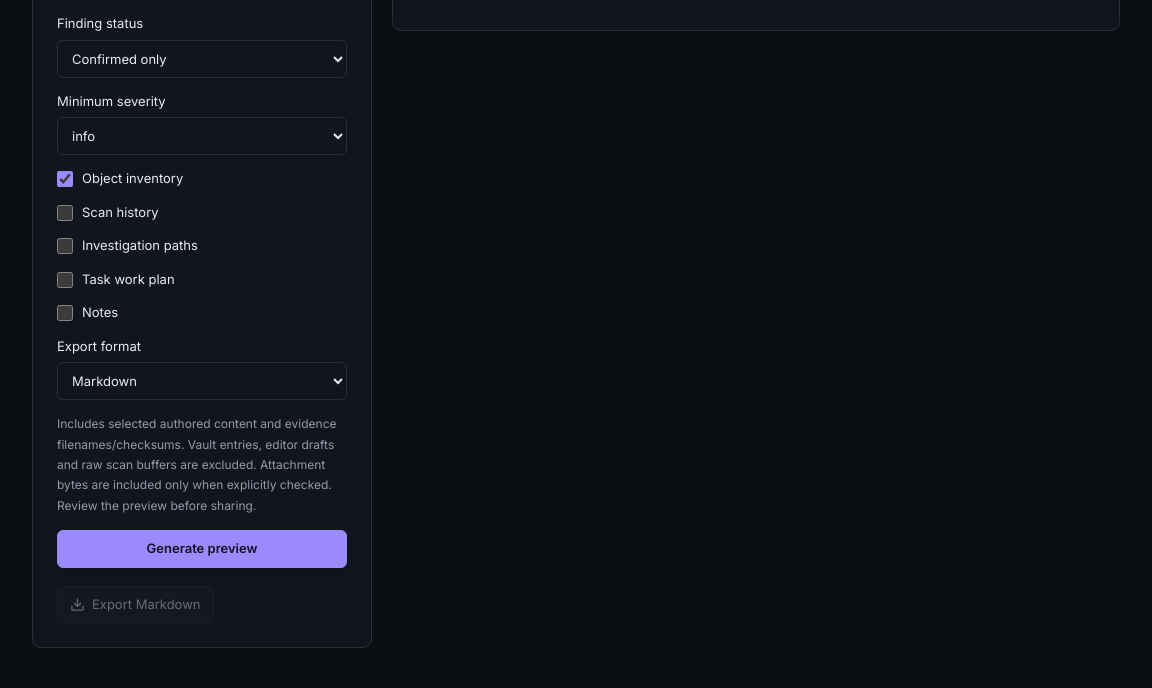
Test: planning workflow › requires a fresh preview when report filters change and exports the selected options
(page scrolled)
Expected: the button "Export Markdown" is disabled, [57,586,214,623]
Click the button "Generate preview": (202, 549) [57,530,347,568]
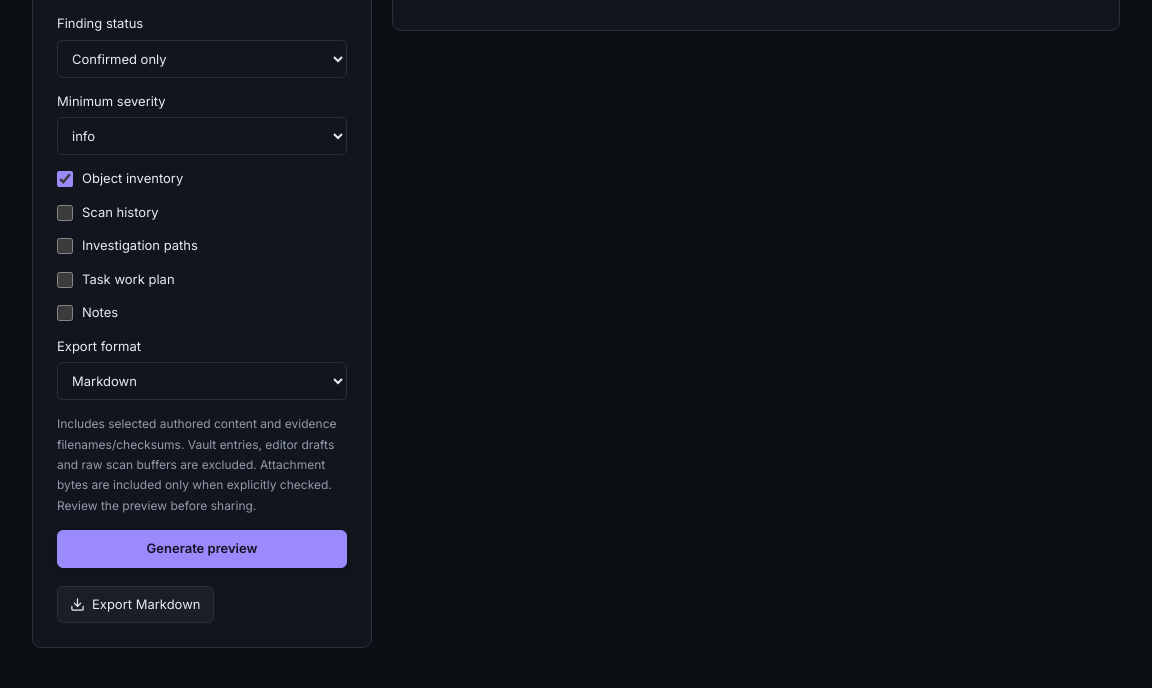
Expected: the button "Export Markdown" is enabled, [57,586,214,623]
Select "high" in the dropdown labelled "Minimum severity": (202, 136) [57,117,347,155]
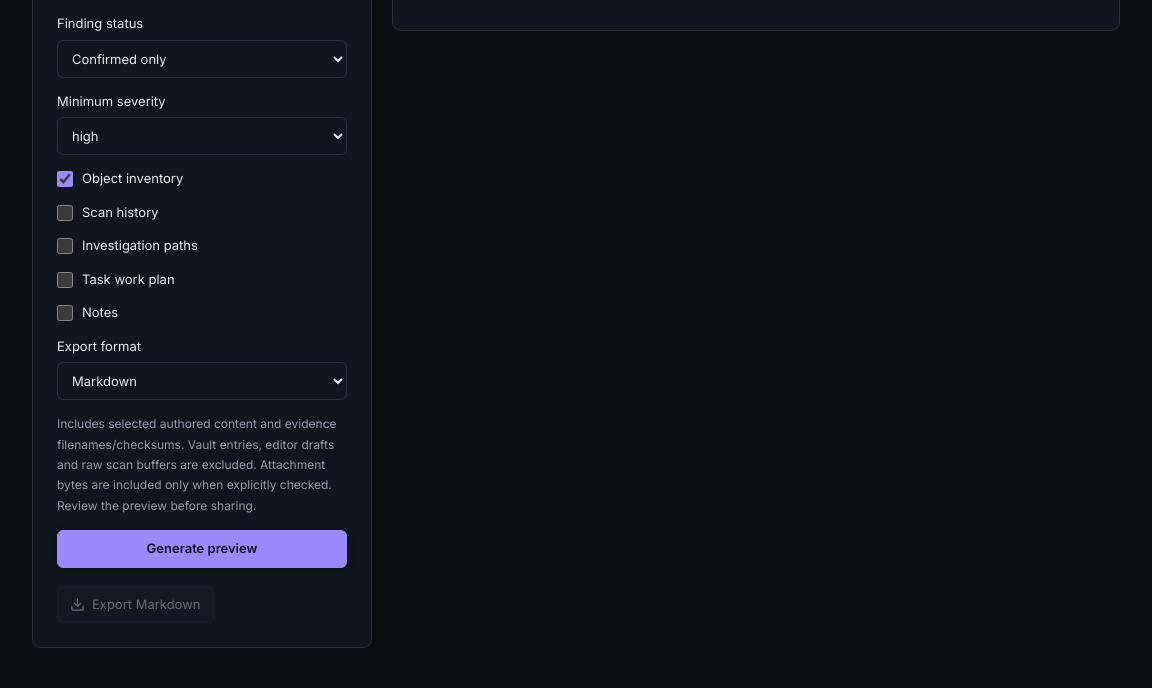
Expected: the button "Export Markdown" is disabled, [57,586,214,623]
Click the button "Generate preview": (202, 549) [57,530,347,568]
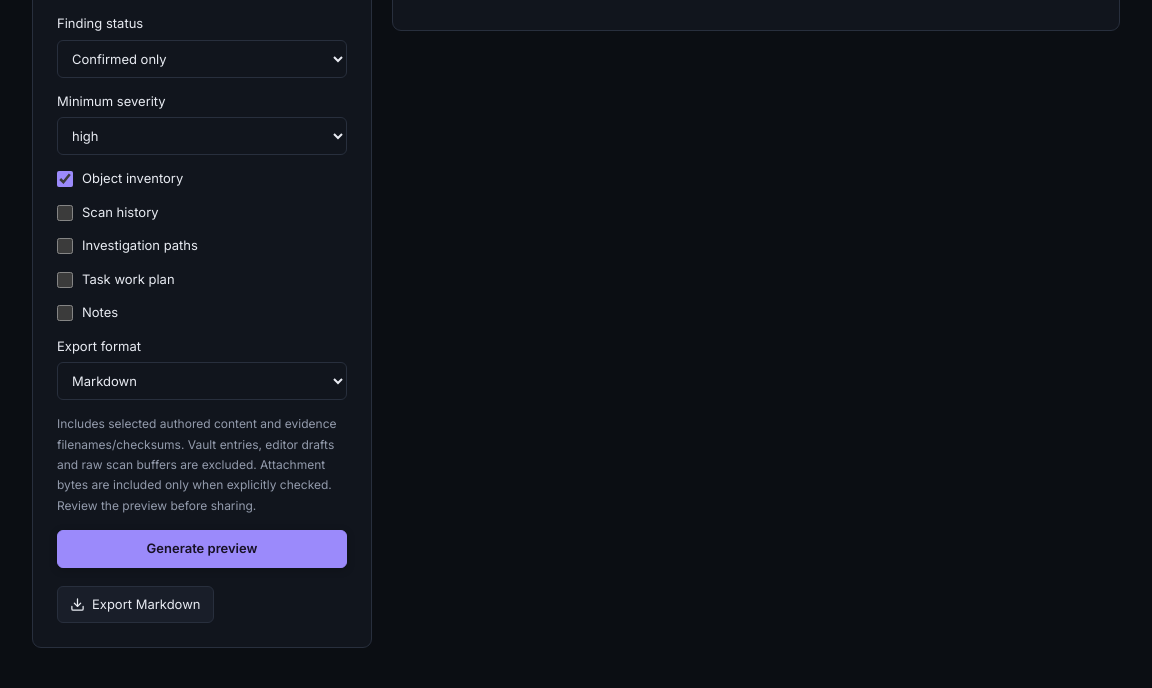
Expected: the button "Export Markdown" is enabled
Click the button "Export Markdown": (135, 604) [57,586,214,623]
(page scrolled)
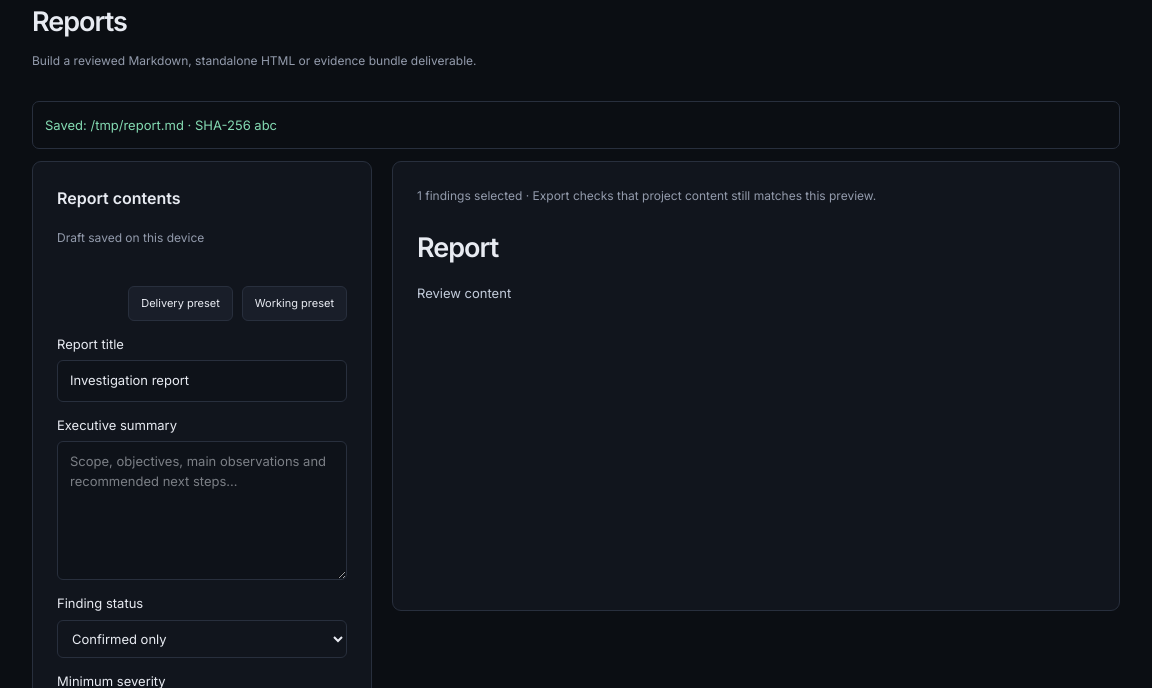
Expected: the message shows "/tmp/report.md", [45,117,277,133]
